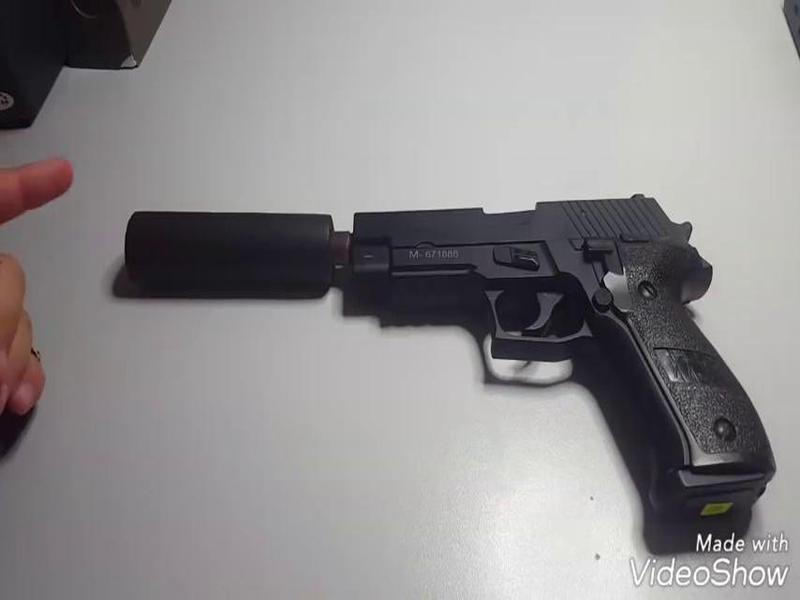Pistola: (337, 188, 786, 524)
